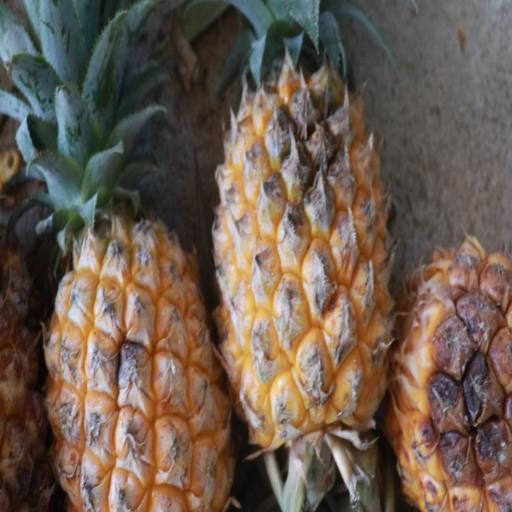Pineapple - v8 v1: (38, 0, 234, 512), (196, 0, 387, 452), (382, 235, 512, 512)
